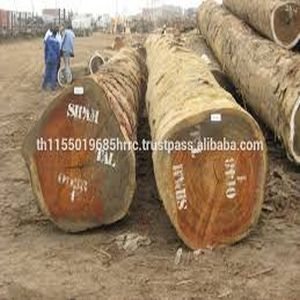log: (18, 78, 139, 234), (151, 105, 269, 254), (270, 1, 300, 50)
